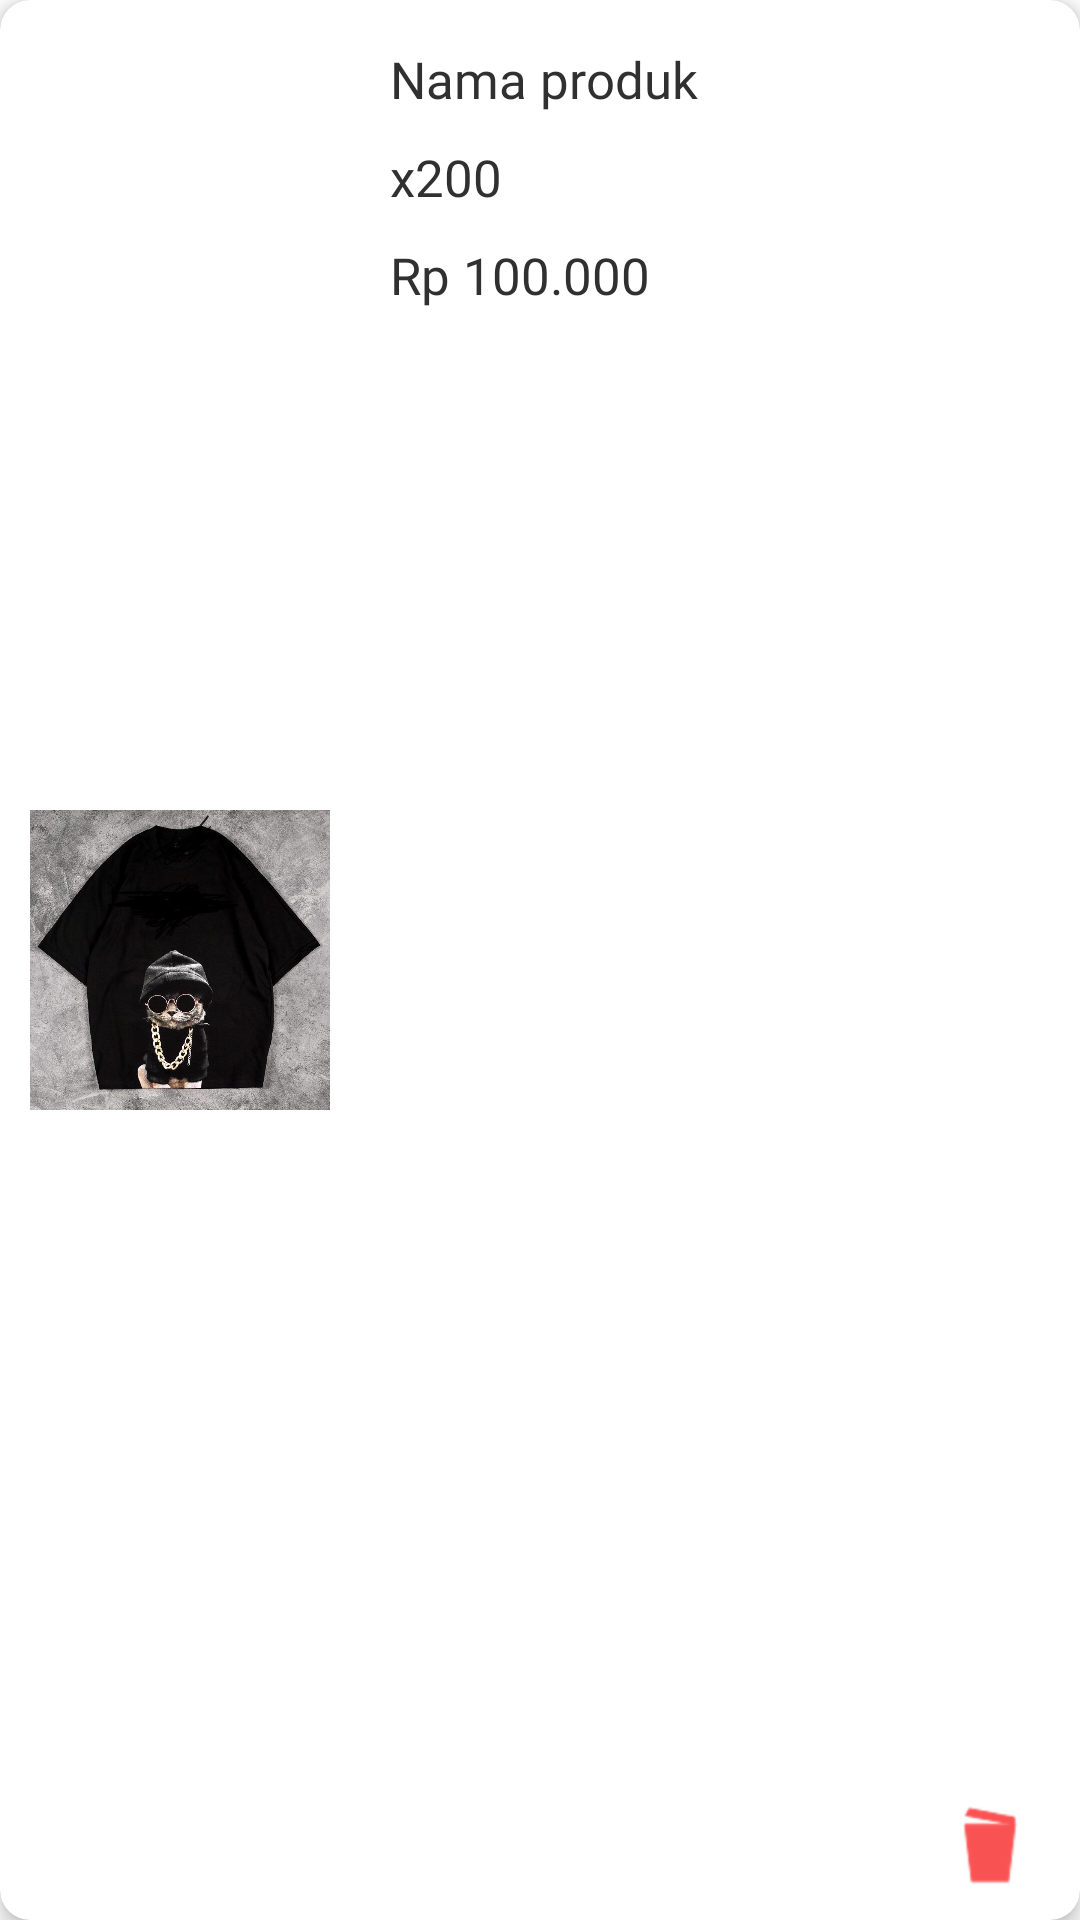

Point at icon controls on the screen. Image size 1080 × 1920, points as (x,y).
trash: (990,1845)
